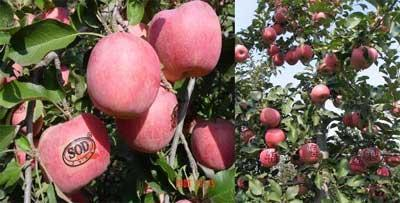apple: (84, 30, 160, 117), (37, 113, 112, 196), (145, 1, 223, 80), (116, 82, 178, 152), (187, 118, 236, 170), (259, 106, 280, 129), (310, 83, 330, 104), (234, 44, 248, 61), (285, 48, 299, 65)
